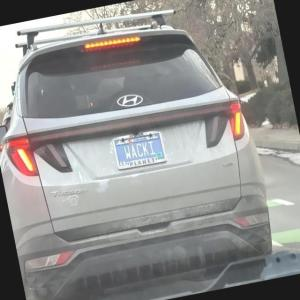Plate: (112, 129, 168, 170)
